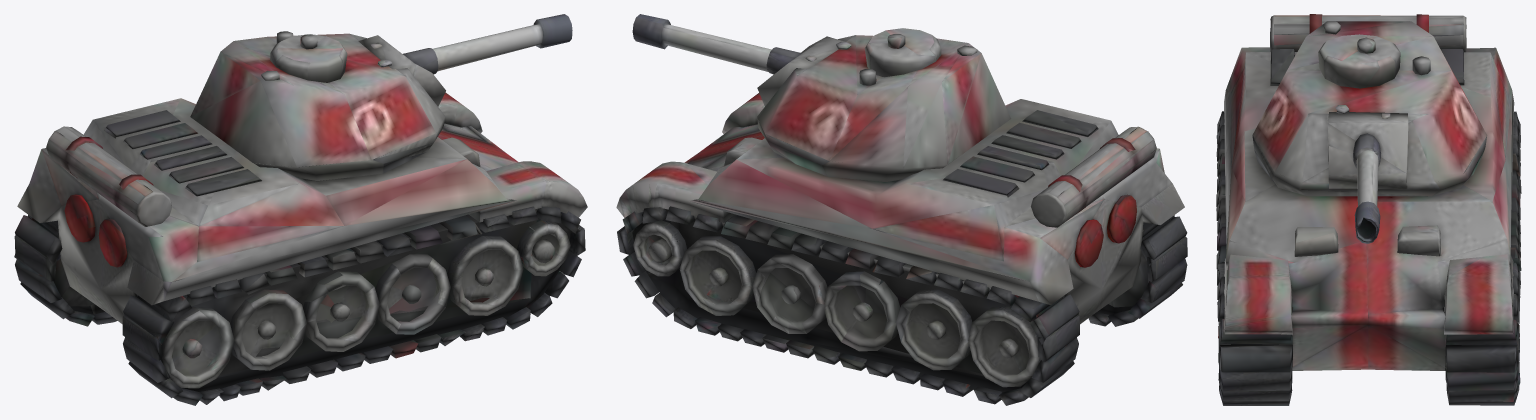
The model's file is enemy_tank.glb.
3 views of the same model, side by side, from view 1: azimuth 30°, elevation 25°; view 2: azimuth 150°, elevation 25°; view 3: azimuth 270°, elevation 25° (orthographic). The views are drawn at different scales.
Visible parts, largest first — view 1: hull, turret; view 2: hull, turret; view 3: hull, turret.
Boxes of the visible parts, box(x1,y1,x2,y2) form: hull: box(14, 92, 587, 405); turret: box(190, 14, 572, 167); hull: box(616, 93, 1187, 405); turret: box(632, 14, 1010, 168); hull: box(1216, 14, 1521, 405); turret: box(1252, 21, 1486, 243).
Bounding box in the file's own units: 1 × 0.5509 × 0.5235.
1 material, 1 textured.
